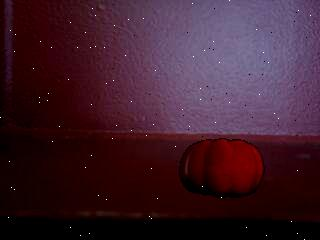Pumpkin: (179, 139, 265, 199)
